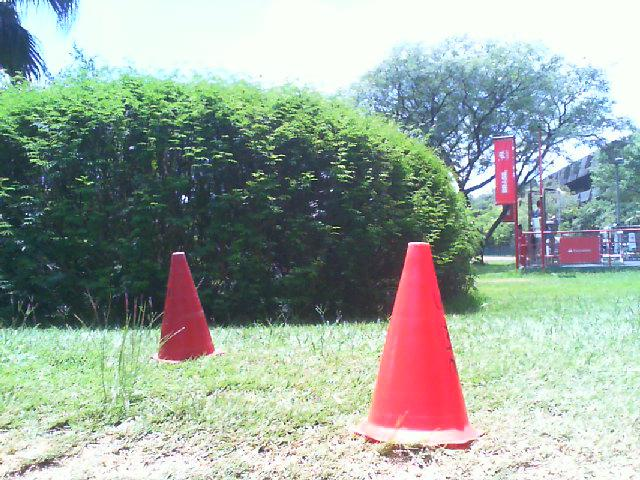0 cone: (354, 242, 488, 446), (150, 252, 224, 364)
